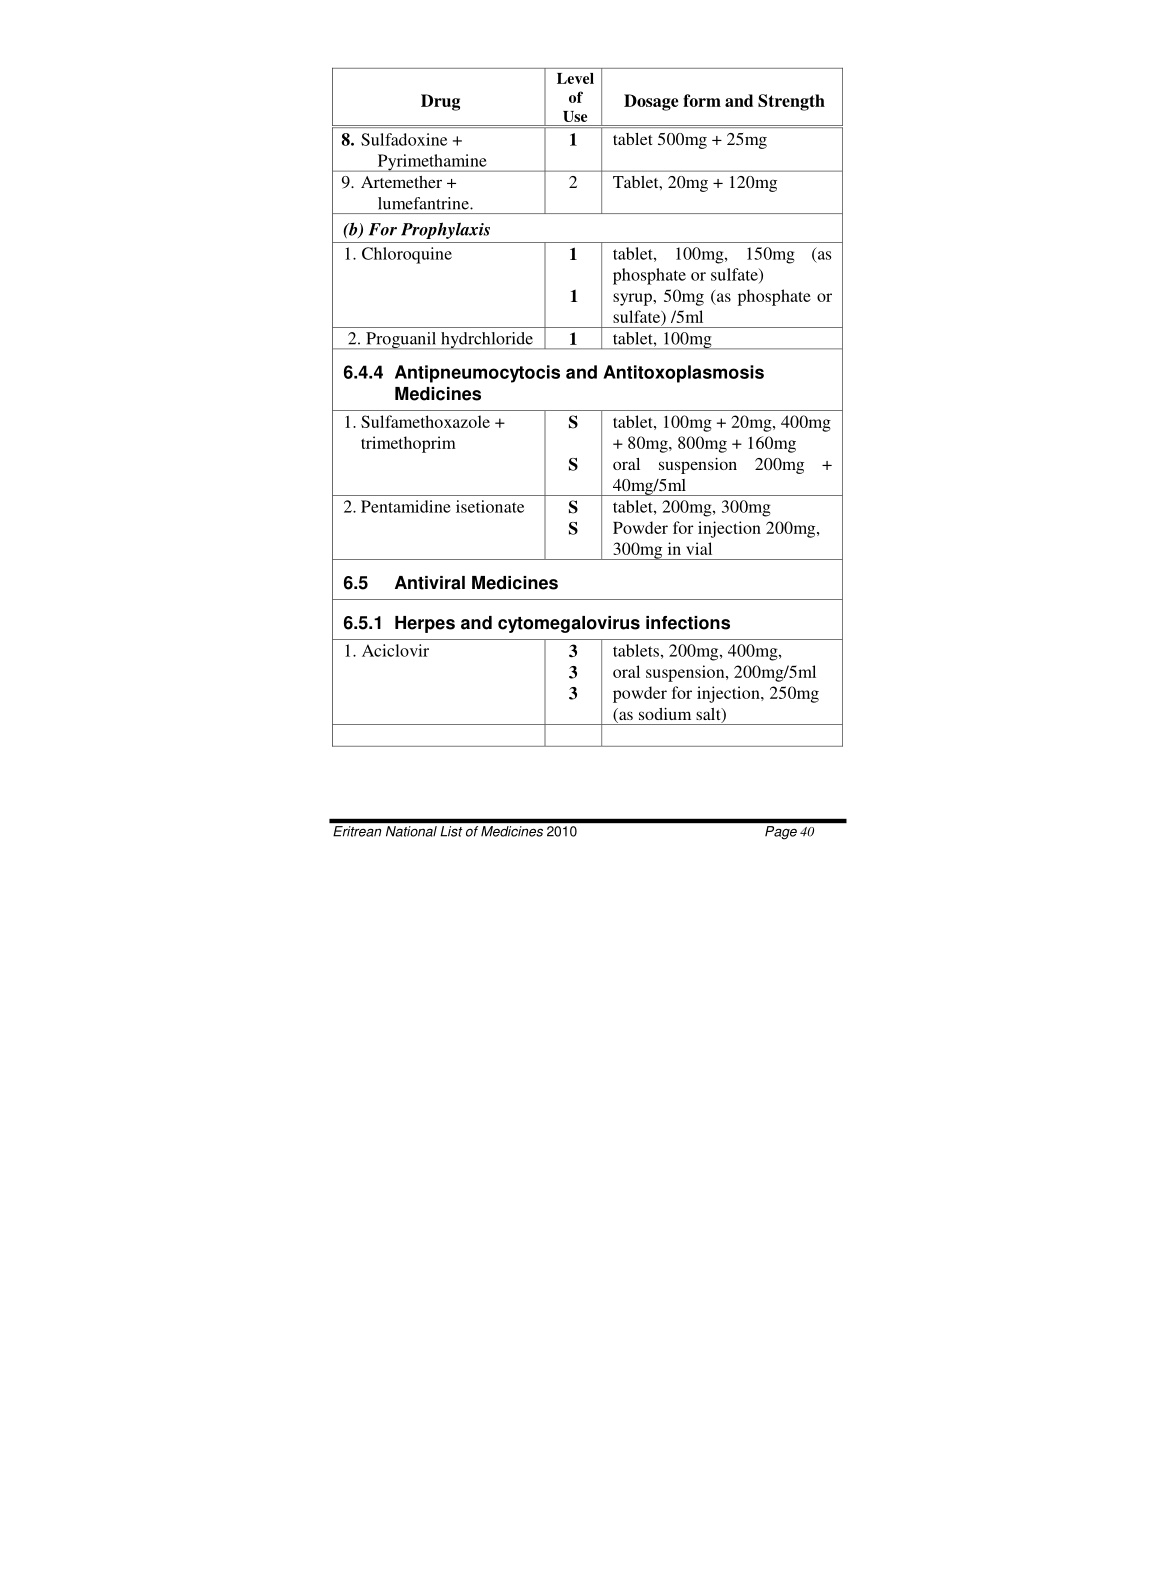merged_cells: (330, 65, 844, 748)
